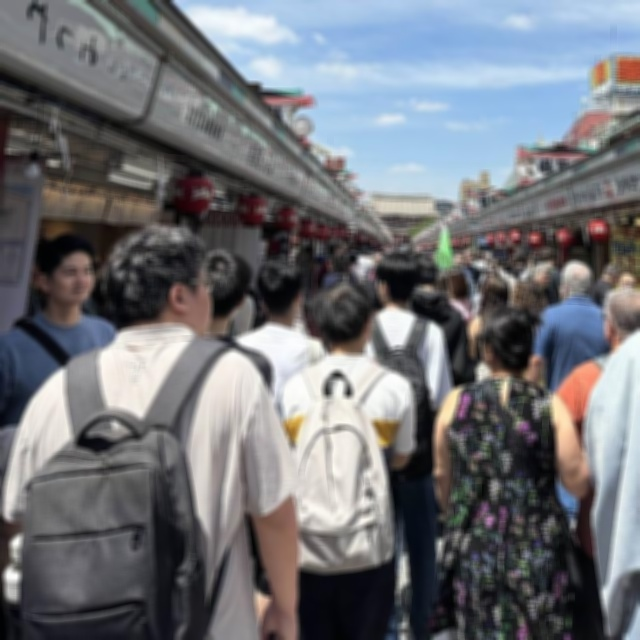Sin_Casco_Mascarrilla: (99, 225, 213, 331), (35, 232, 98, 304), (309, 283, 375, 349)
